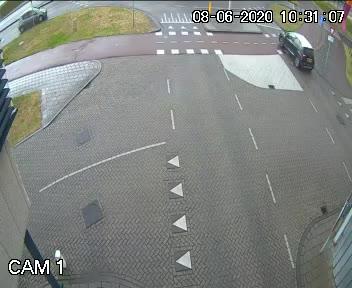car: (266, 23, 333, 81), (16, 0, 51, 37)
